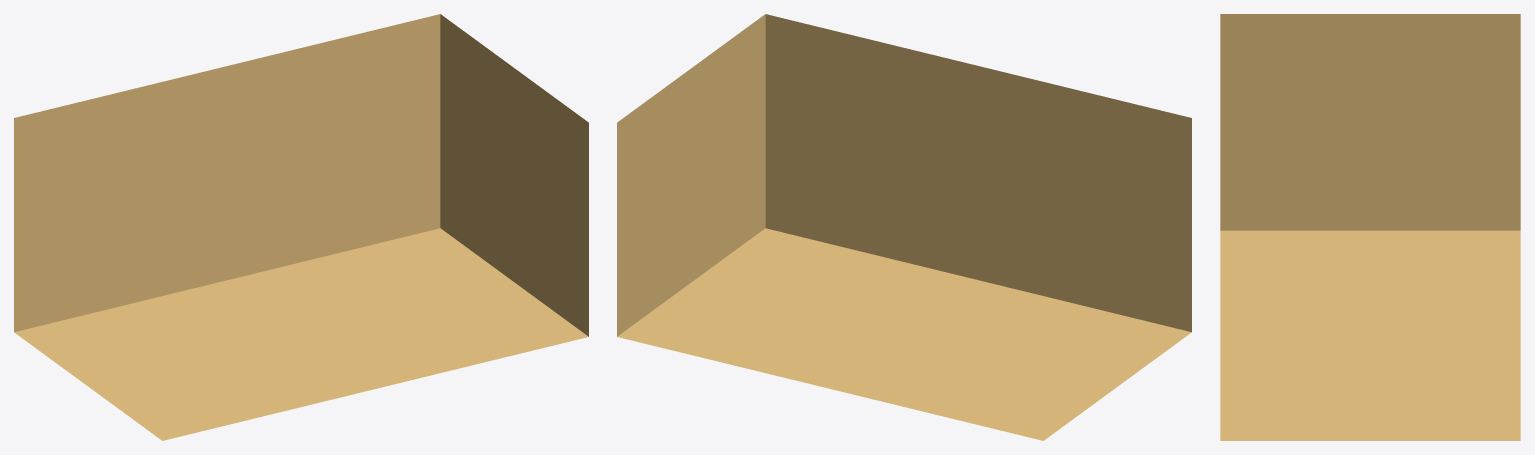
Rendered from tables-starship-command-024.glb.
The picture shows the model from 3 angles, left to right: view 1: azimuth 30°, elevation 25°; view 2: azimuth 150°, elevation 25°; view 3: azimuth 270°, elevation 25°; orthographic projection.
Parts seen in each view (by area): view 1: Starship Command Tables; view 2: Starship Command Tables; view 3: Starship Command Tables.
Boxes of the visible parts, x1=… form: Starship Command Tables: x1=14, y1=14, x2=588, y2=440; Starship Command Tables: x1=617, y1=14, x2=1191, y2=440; Starship Command Tables: x1=1220, y1=14, x2=1520, y2=440.
Bounding box in the file's own units: 3.25 × 1.56 × 1.96.
